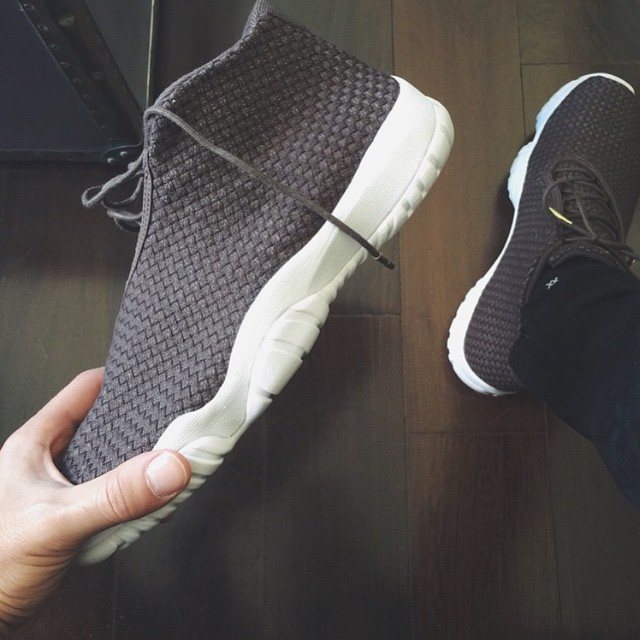sneaker: (421, 58, 640, 419)
